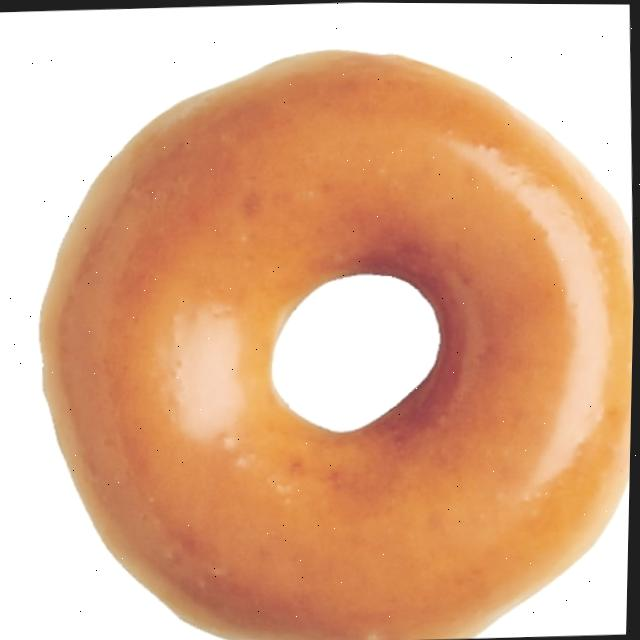炸货点心: (22, 25, 640, 640)
